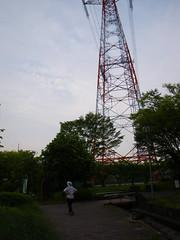power_tower: (82, 0, 158, 171)
